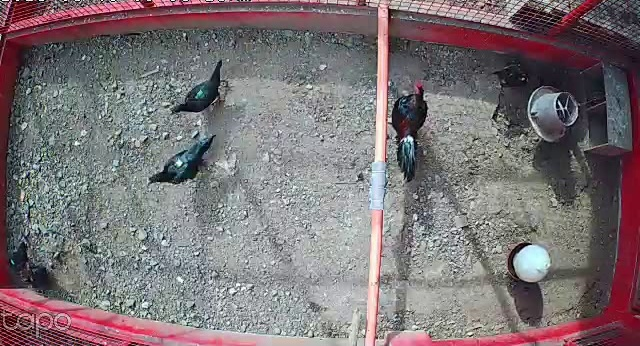Chicken: (145, 135, 216, 189), (170, 56, 232, 117), (488, 58, 541, 93), (3, 238, 32, 277)
Rooster: (383, 77, 437, 181)
